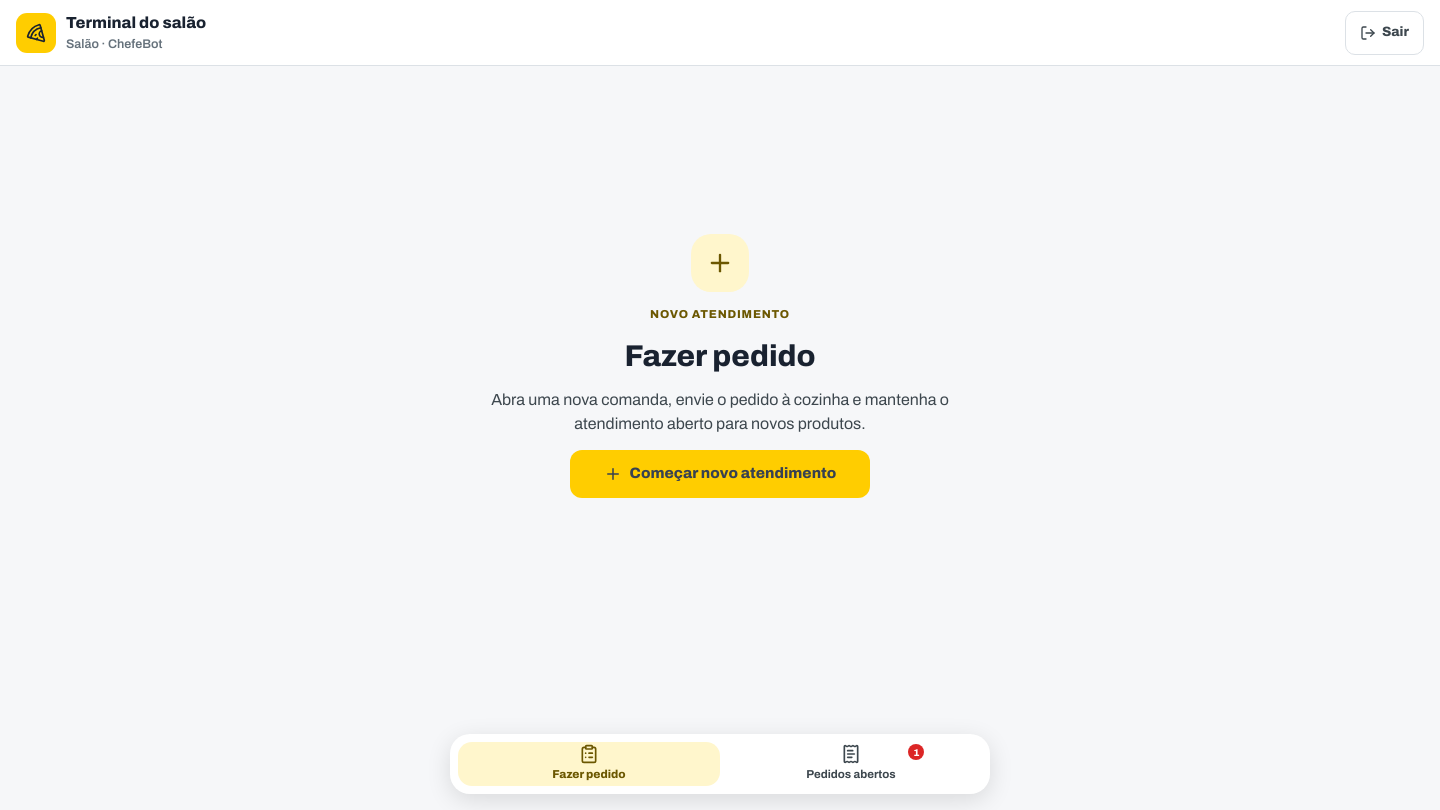
Test case: /salao — pedidos abertos e continuidade › Pedir conta mostra motivo quando ainda há pedido ativo
This screenshot has width=1440, height=810.
Click the button "Pedidos abertos 1". click: {"x": 851, "y": 764}
box: [720, 742, 982, 786]
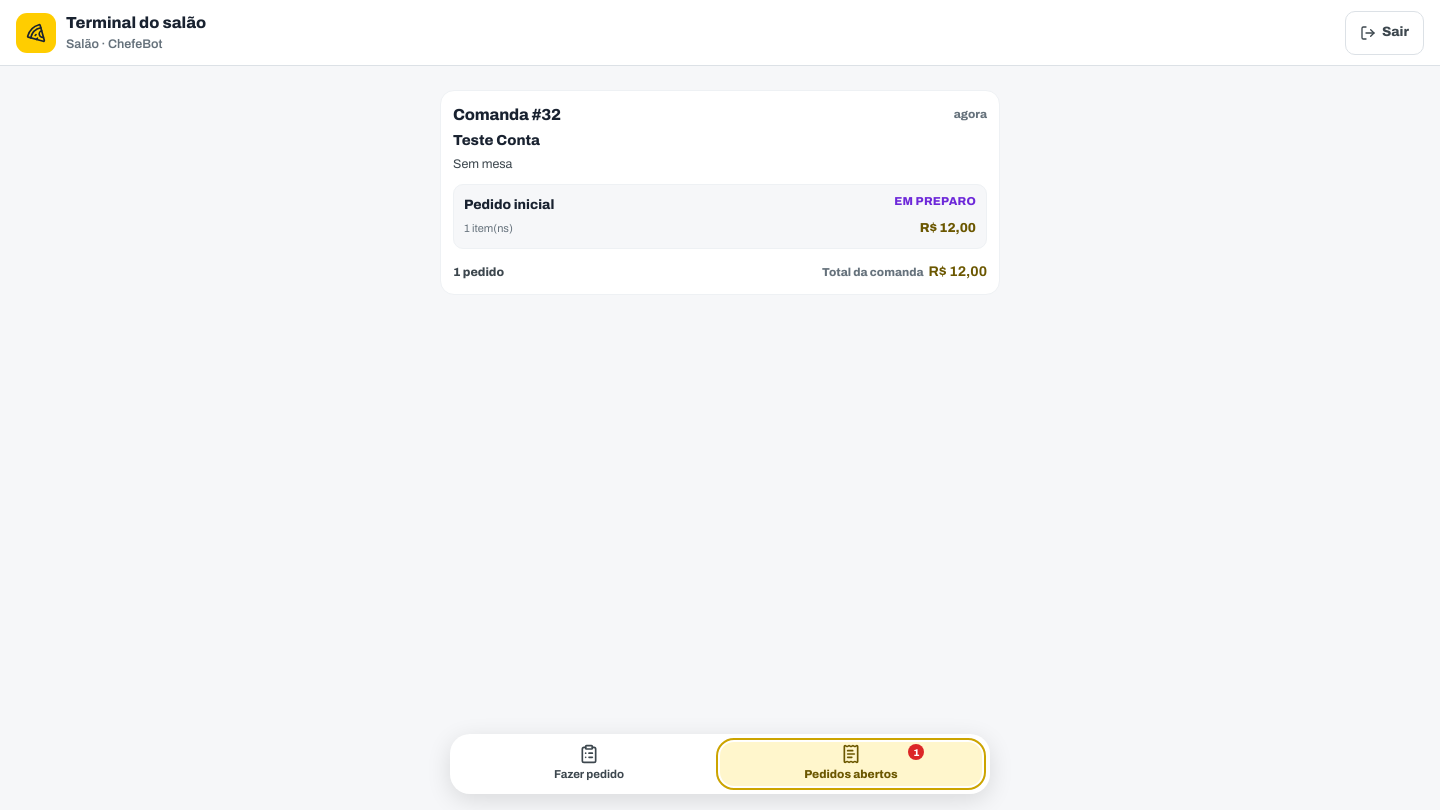
Click the text "Teste Conta". click: {"x": 496, "y": 140}
box: [453, 132, 540, 148]
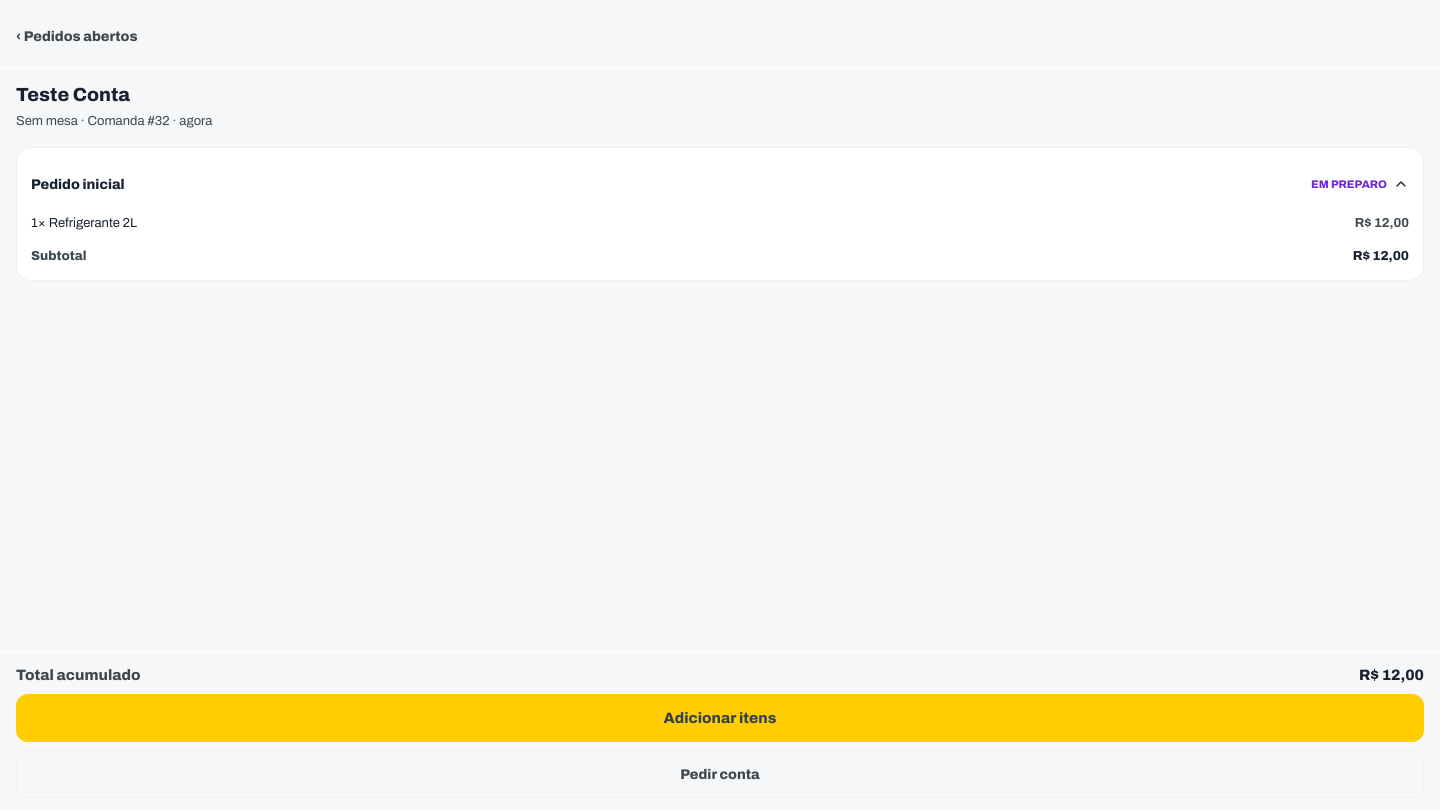
Click the button "Pedir conta". click: {"x": 720, "y": 774}
box: [16, 750, 1424, 798]
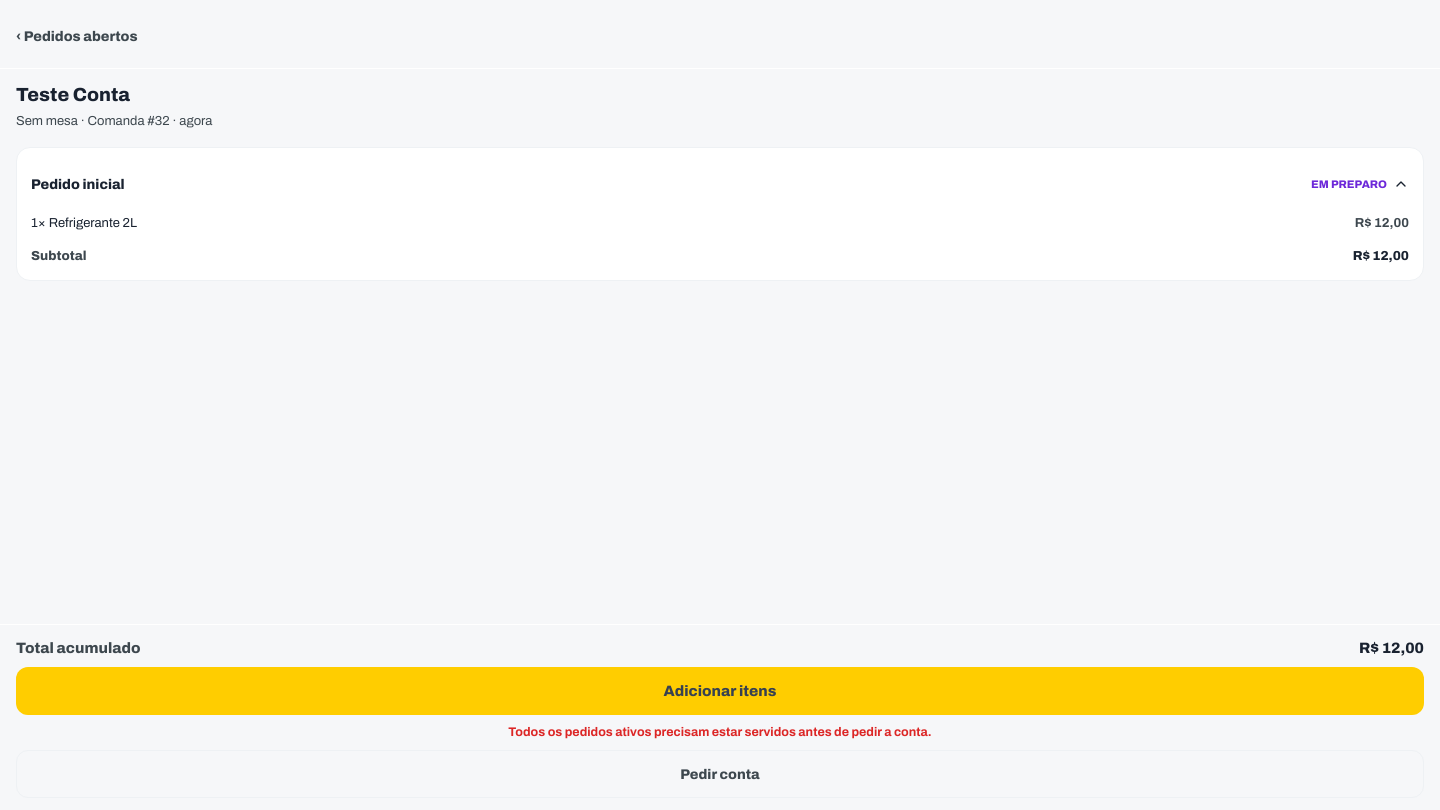
Check: the message reads "Todos os pedidos ativos precisam estar servidos antes de pedir a conta.", box [508, 725, 932, 739]
